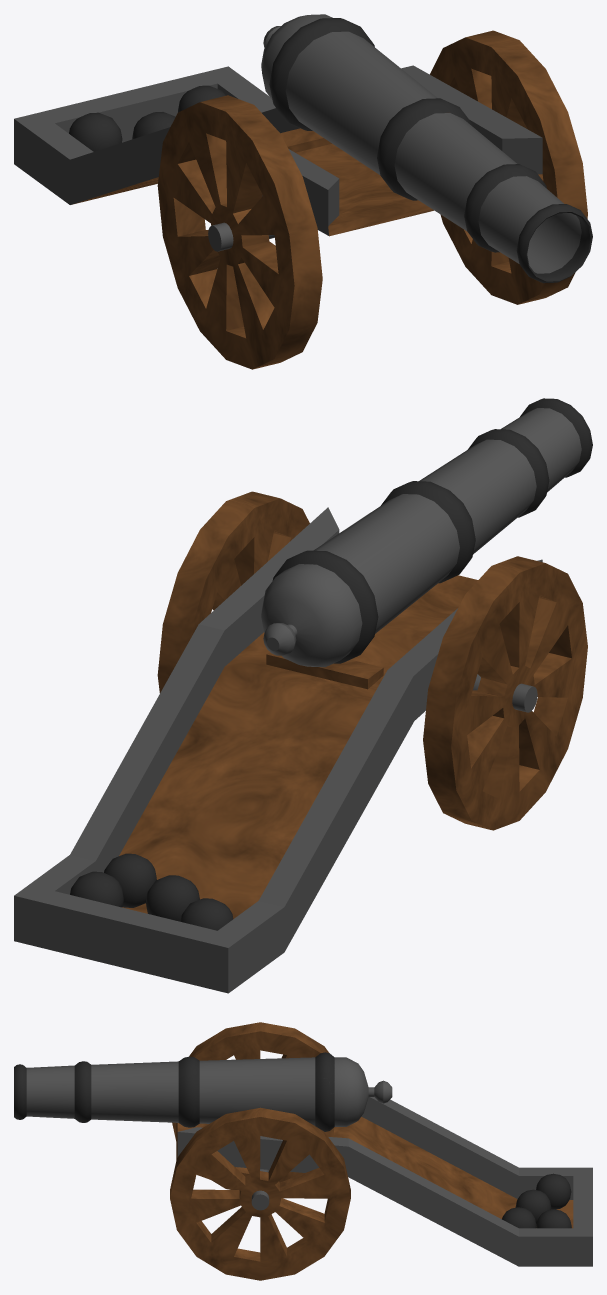
File: Canion.fbx
3 renders of one model, top to bottom at view 1: azimuth 30°, elevation 25°; view 2: azimuth 150°, elevation 25°; view 3: azimuth 270°, elevation 25°, orthographic. The views are drawn at different scales.
Parts seen in each view (by area): view 1: Canion; view 2: Canion; view 3: Canion.
Boxes of the visible parts, bbox=[...] form: Canion: bbox=[14, 14, 592, 369]; Canion: bbox=[14, 398, 592, 993]; Canion: bbox=[14, 1022, 592, 1280].
Size of the model in its own units: 267 by 216 by 640.
